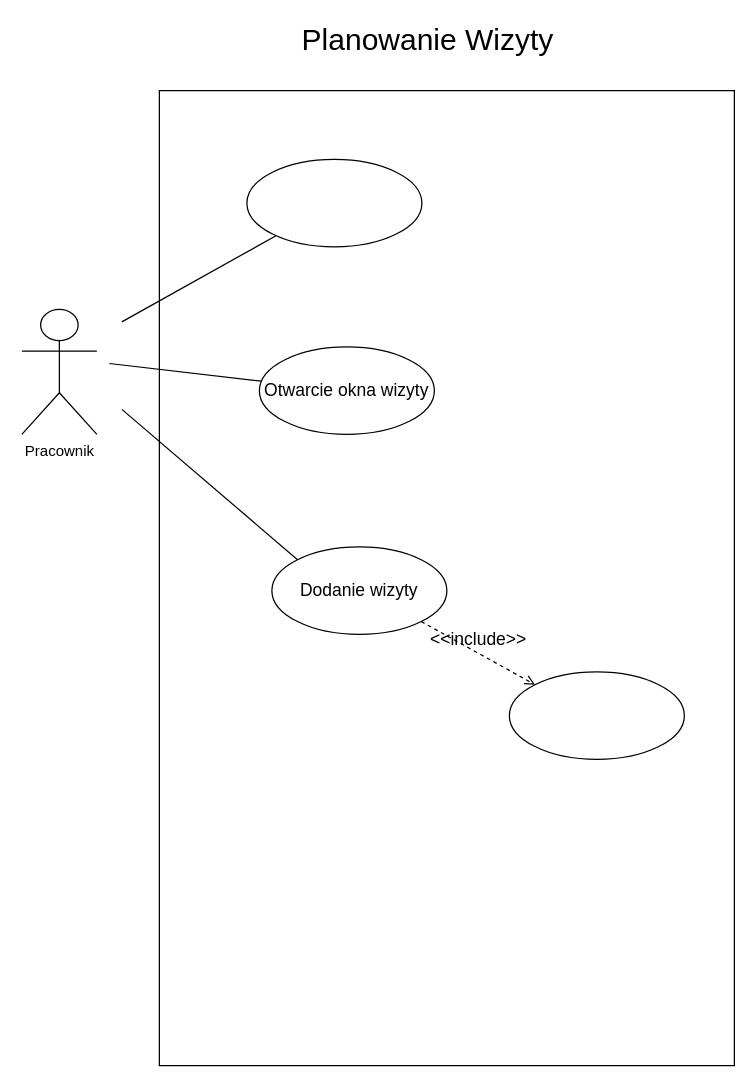
Some shapes in this 756 by 1088 pixel diagram are drawn without their labels. The shapes that lost their labels are listed below. From the top down, each one's box as (x1, y1, x2, y2) in pixels, then its label:
(246, 158, 422, 247): Logowanie do aplikacji
(508, 671, 684, 759): Nadanie statusu zaplanowana
